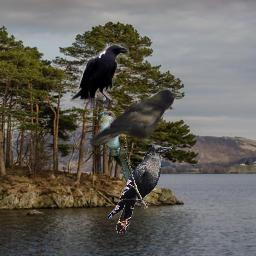Crow: (107, 145, 172, 233), (90, 88, 182, 145), (68, 43, 129, 112)
Cuckoo: (97, 110, 139, 192)
